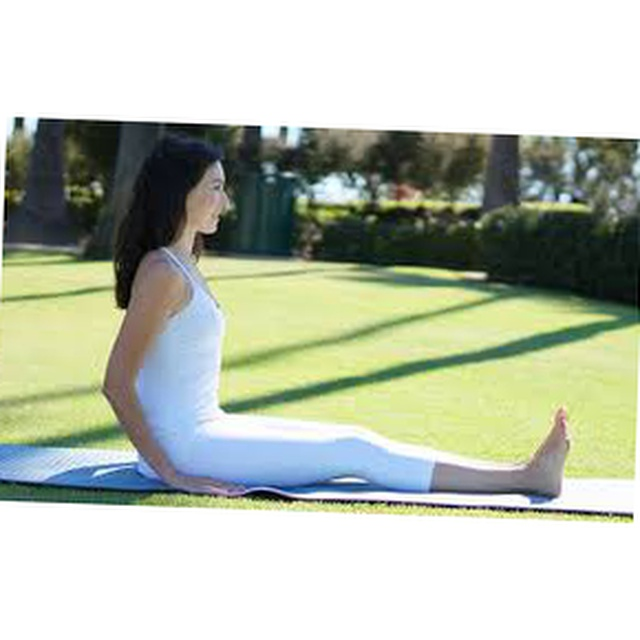Staff_Pose: (100, 134, 571, 500)
